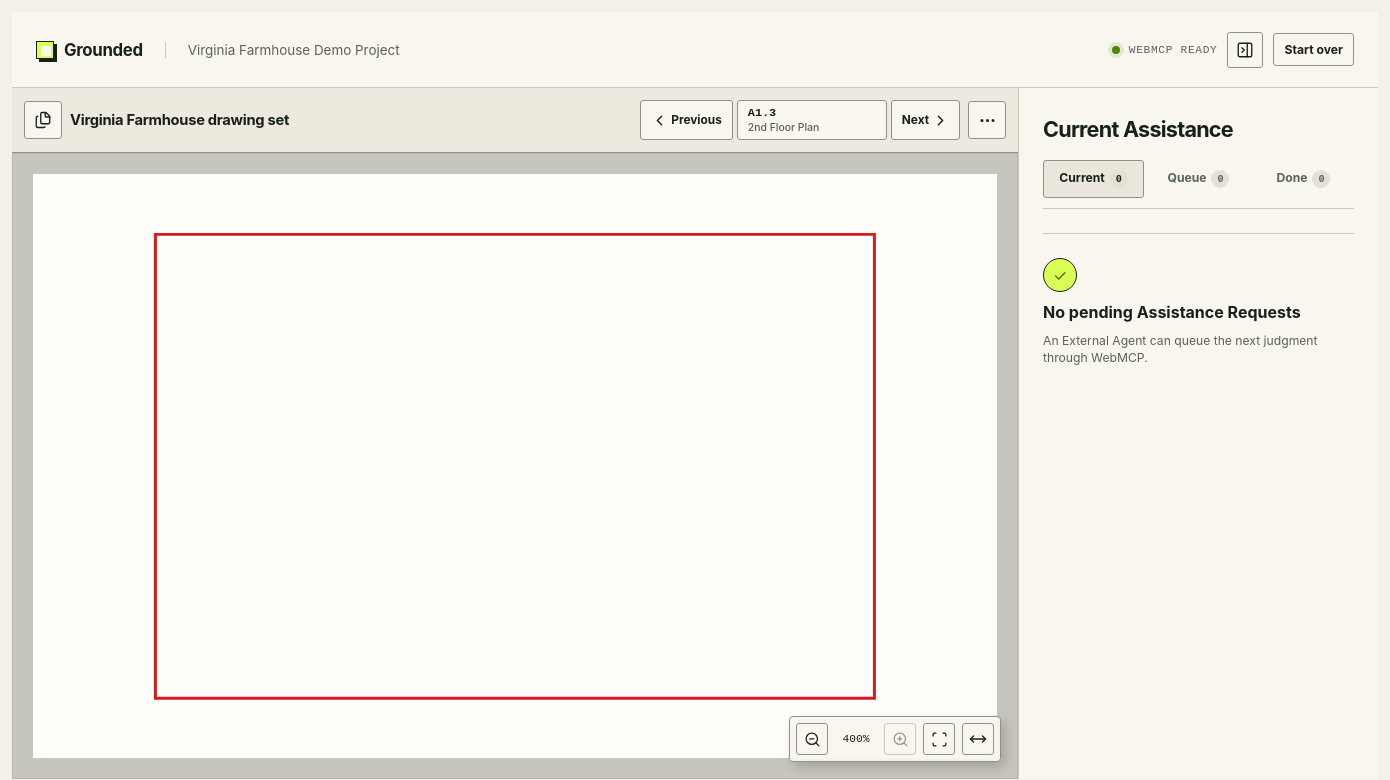
render-failure rollback does not restore a dismissed Document Focus outline
Expected: the text "WebMCP ready" is shown, [1129,44,1217,56]
Press the mouse on the element with class "document-focus-outline": x=515, y=466 [33,174,997,758]
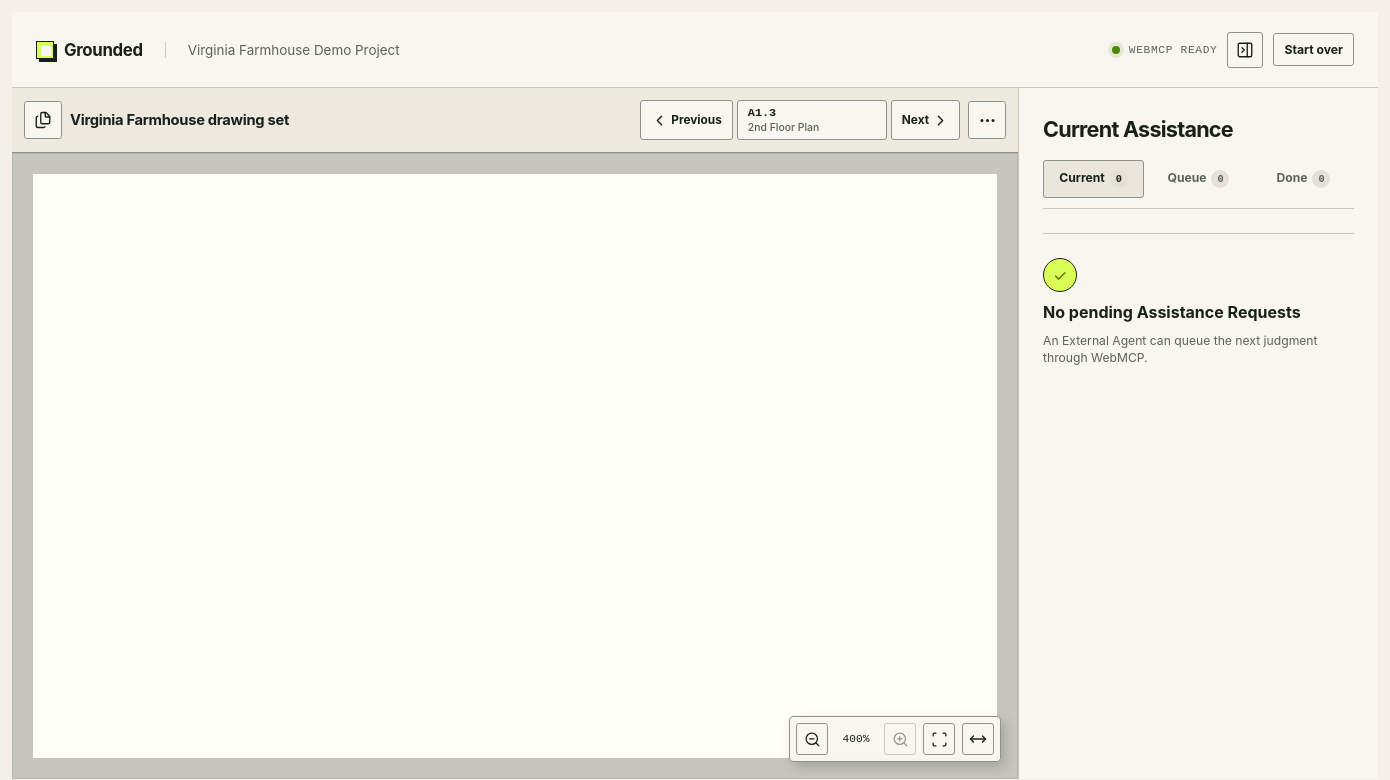
Now the element with class "document-focus-outline" is gone
